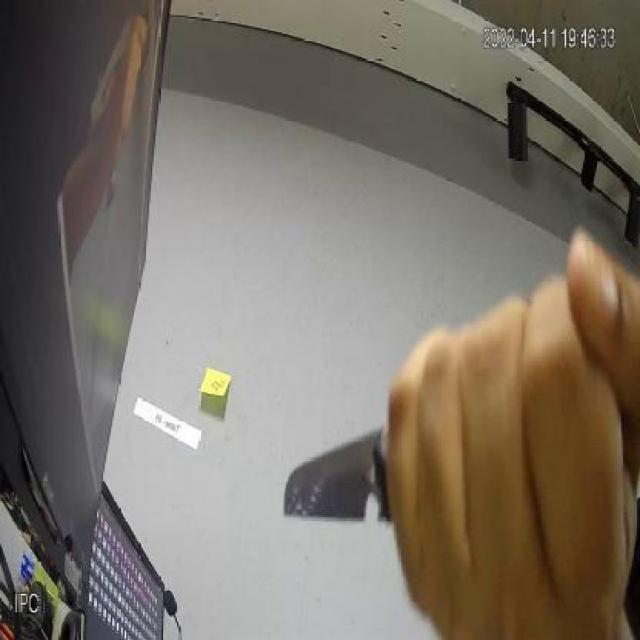-: (280, 420, 383, 535)
